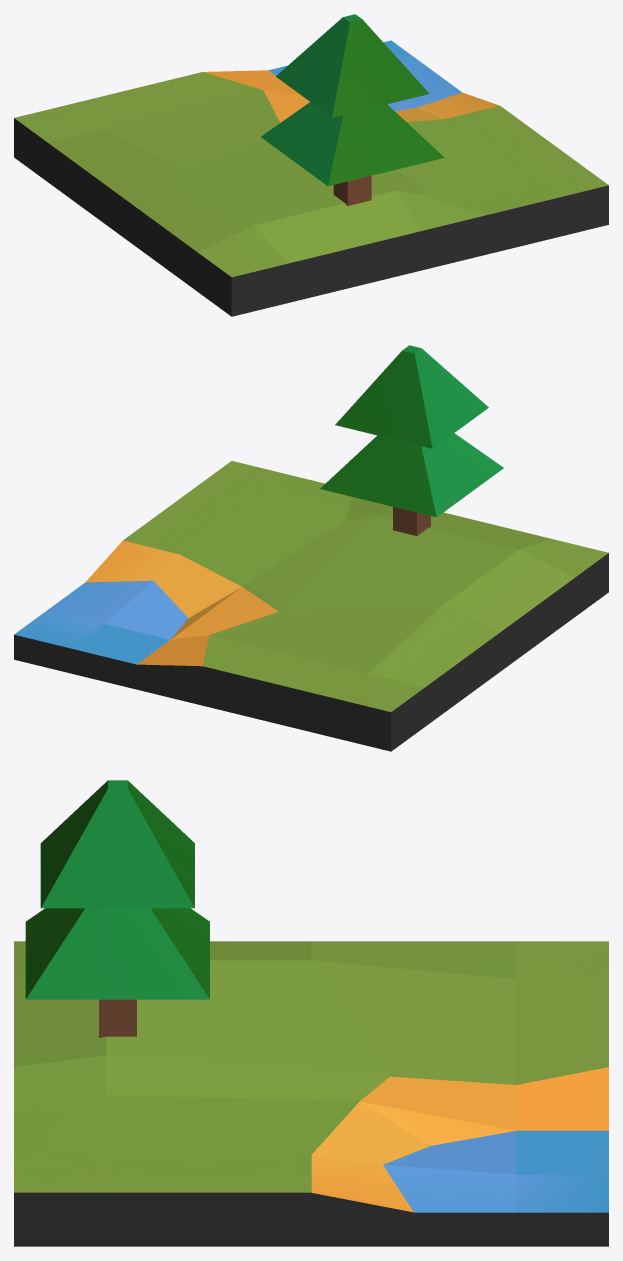
Rendered from sea_angle_2.fbx.
The picture shows the model from 3 angles, top to bottom: view 1: azimuth 30°, elevation 25°; view 2: azimuth 150°, elevation 25°; view 3: azimuth 270°, elevation 25°; orthographic projection. The views are drawn at different scales.
Parts seen in each view (by area): view 1: block.001; view 2: block.001; view 3: block.001.
Part boxes in pixels (bbox=[...]): block.001: bbox=[14, 14, 608, 316]; block.001: bbox=[14, 345, 608, 751]; block.001: bbox=[14, 780, 608, 1246].
Bounding box in the file's own units: 200 × 200 × 118.
Materials: 1 (1 with a texture image).
